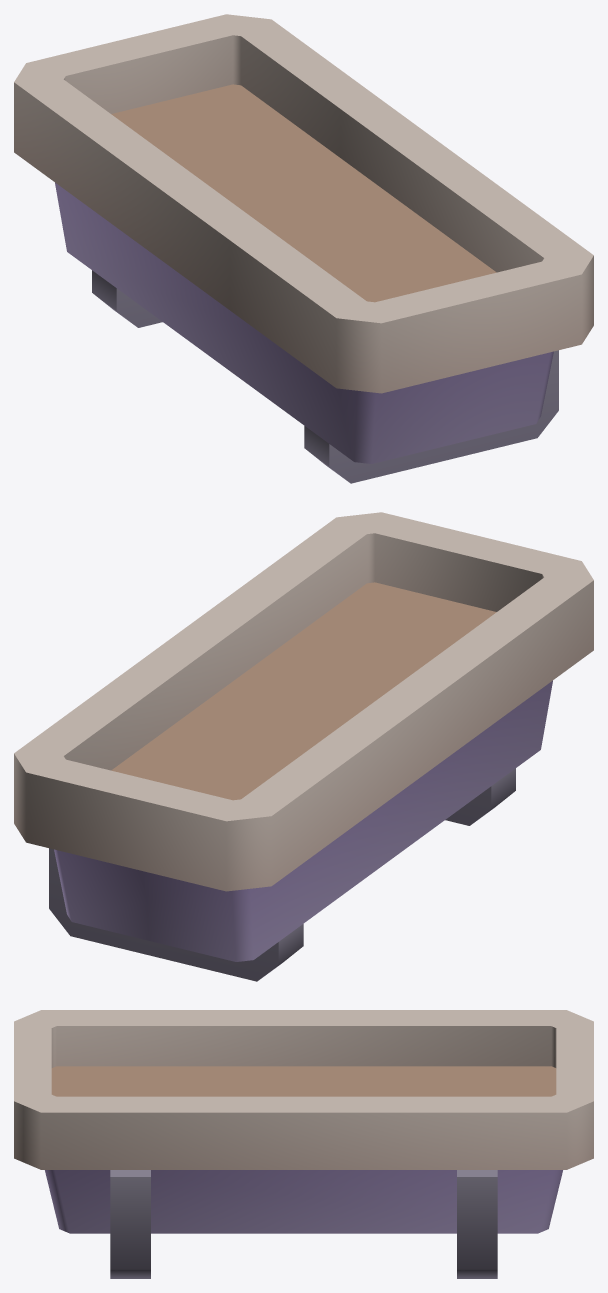
Rendered from planter-wall-large (%wall).glb.
3 views of the same model, one above another, from view 1: azimuth 30°, elevation 25°; view 2: azimuth 150°, elevation 25°; view 3: azimuth 270°, elevation 25° (orthographic). The views are drawn at different scales.
Visible parts, largest first — view 1: planter-wall-large (%wall); view 2: planter-wall-large (%wall); view 3: planter-wall-large (%wall).
Boxes of the visible parts, x1,y1,x2,y2 form: planter-wall-large (%wall): (14,14,593,483); planter-wall-large (%wall): (14,512,593,981); planter-wall-large (%wall): (14,1010,593,1278).
Bounding box in the file's own units: 0.3078 × 0.2334 × 0.7146.
